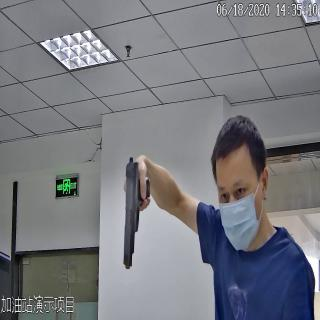gun: (122, 155, 152, 271)
